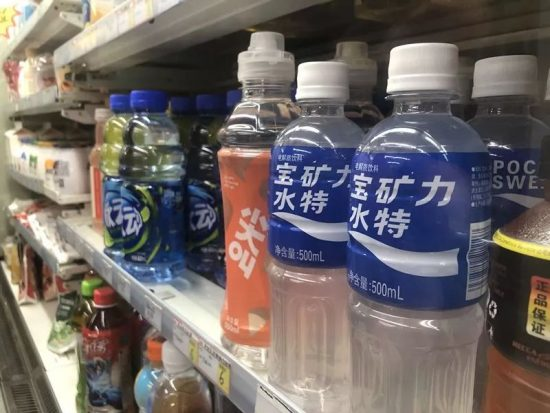POCARI SWEAT: (354, 38, 485, 412), (271, 59, 352, 411)
